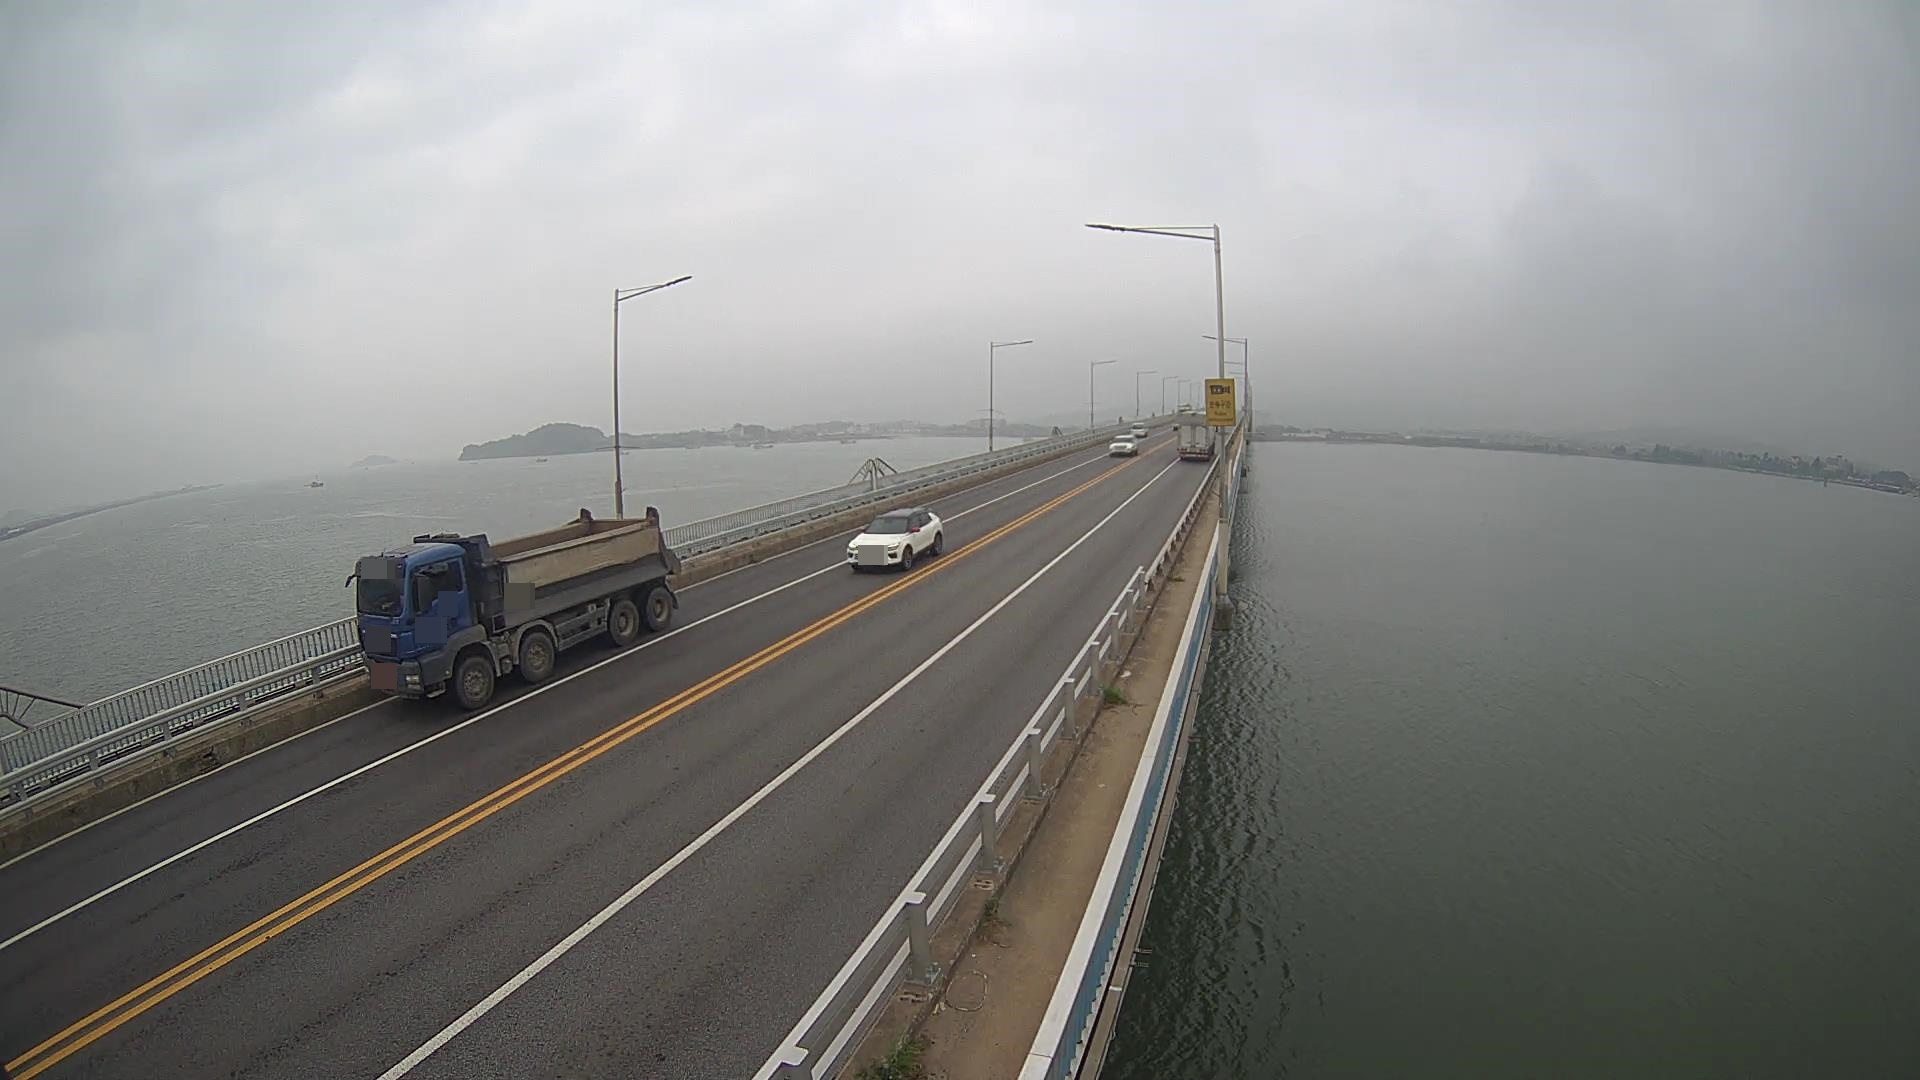정상차량: (344, 506, 682, 709)
